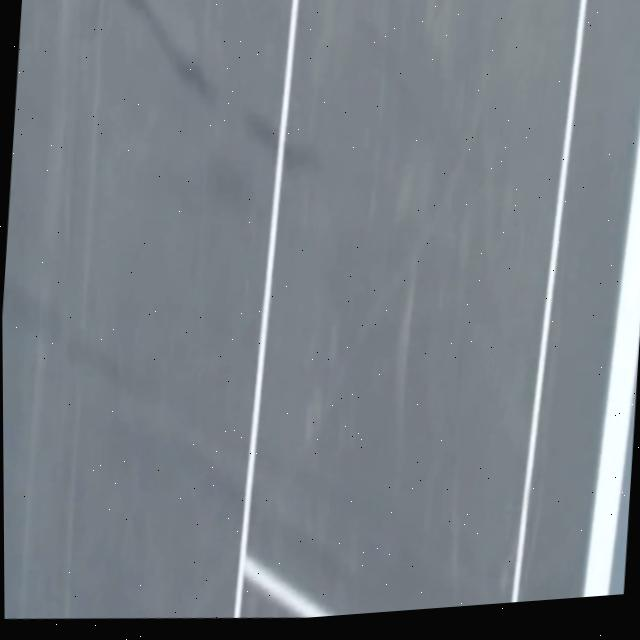left: (584, 123, 640, 597)
